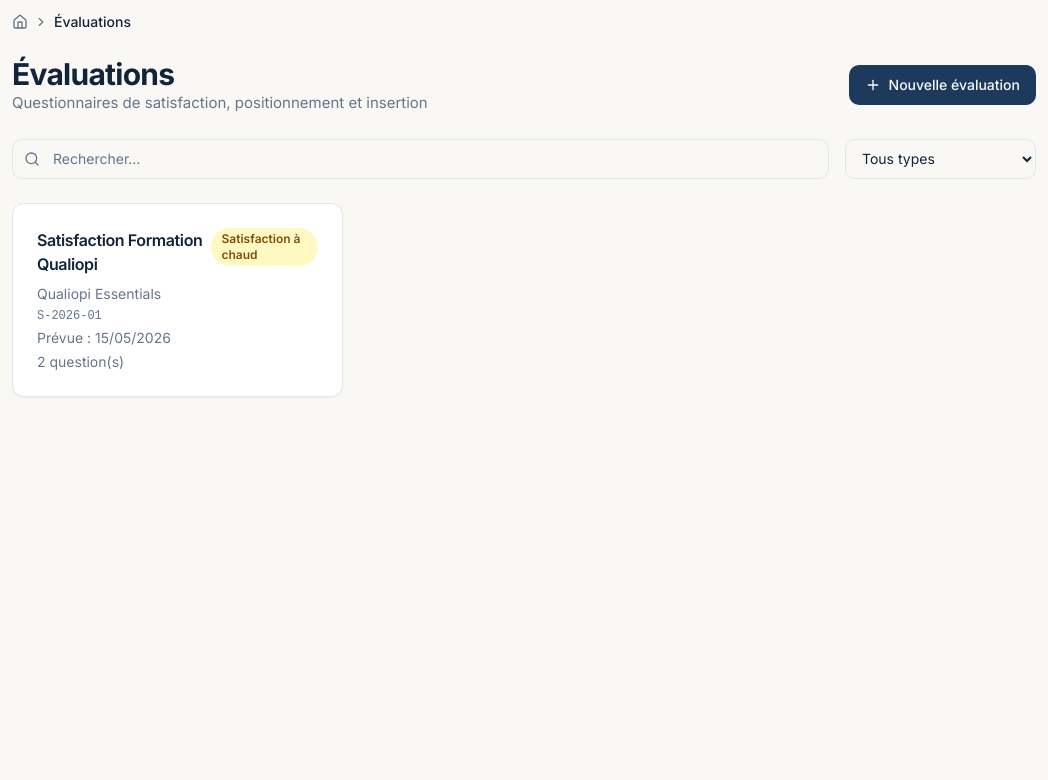
Scenario: EvaluationsListPage › toggles the create form when "Nouvelle évaluation" is clicked
Expected: the text "titre *" is not shown
Click the button "Nouvelle évaluation": (942, 85) [849,65,1036,105]
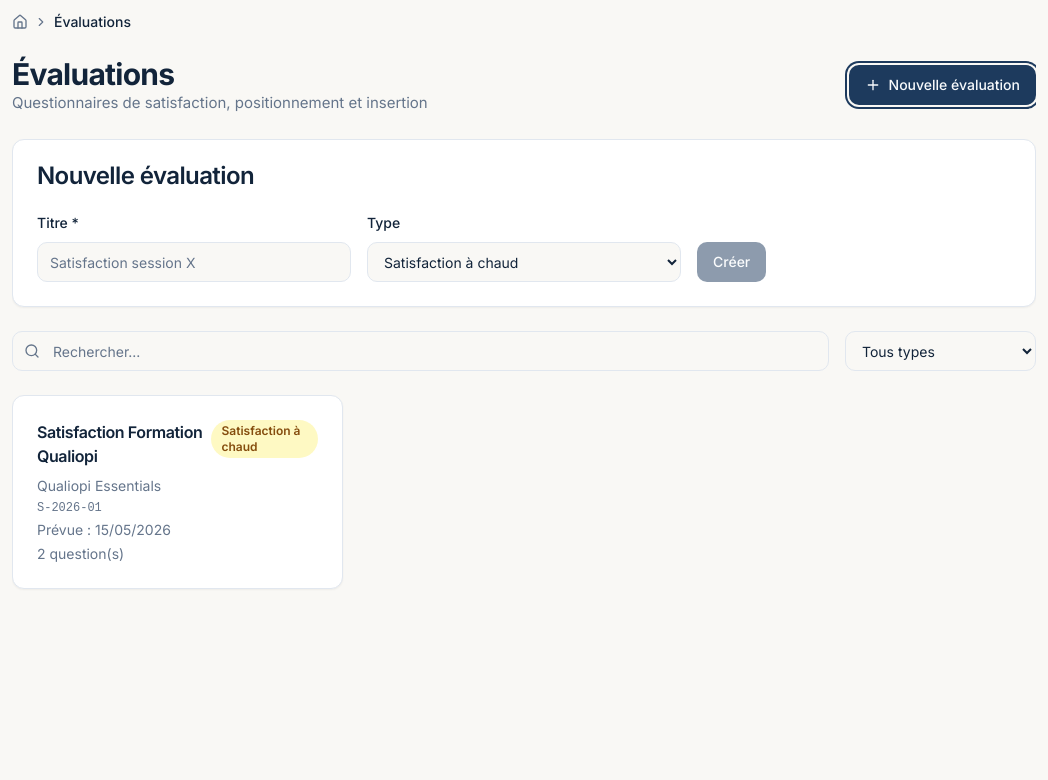
Expected: the text "Titre *" is shown, [37,214,79,230]
